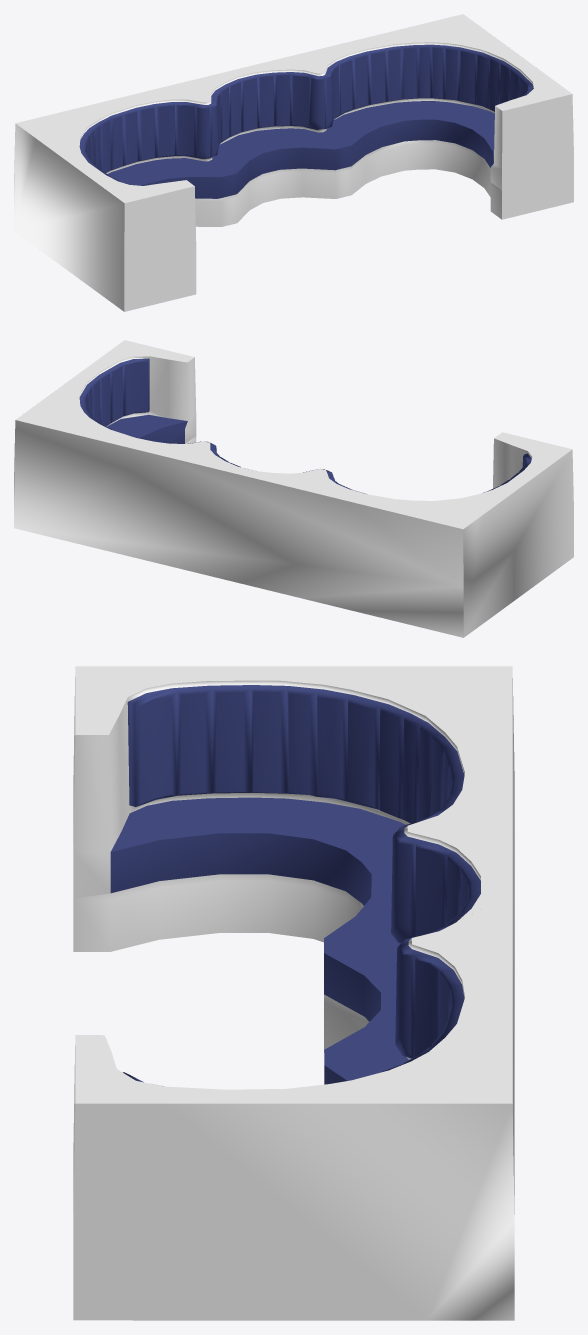
The picture shows the model from 3 angles, top to bottom: view 1: azimuth 30°, elevation 25°; view 2: azimuth 150°, elevation 25°; view 3: azimuth 270°, elevation 25°; orthographic projection. The views are drawn at different scales.
Visible parts, largest first — view 1: BarCouch.005; view 2: BarCouch.005; view 3: BarCouch.005.
Part boxes in pixels (left/top/right/bottom): BarCouch.005: left=14, top=14, right=573, bottom=311; BarCouch.005: left=14, top=340, right=573, bottom=637; BarCouch.005: left=73, top=666, right=514, bottom=1320.
Size of what is drawn, in the model's own units: 4.75 by 1.09 by 2.02.
Materials: 1 (1 with a texture image).
